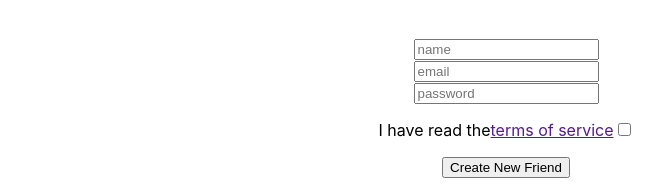
Test: Testing Create New User Form › Ensure all expected input fields exist and operate correctly › all input fields must pass a specified schema before the submit button works › if password is null an error appears
This screenshot has width=648, height=196.
Type "Dawson" into the field named "name". click: (507, 51)
box: [414,40,599,61]
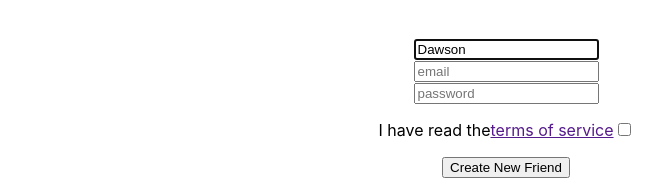
Type "dawsonreschke@gmail.com" into the field named "email". click: (507, 73)
box: [414,62,599,83]
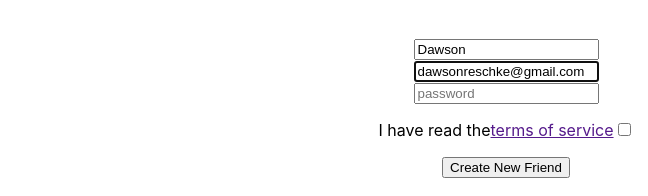
Click the checkbox named "tos". click: (625, 131)
box: [618,124,631,137]
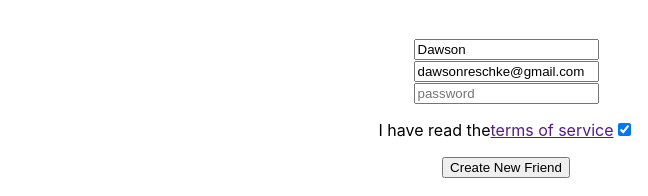
Click the button named "submitBtn". click: (506, 169)
box: [442,158,570,179]
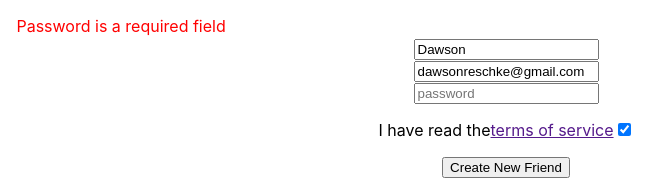
expect the text "Password is a required field" is shown: met, box [16,16,258,36]
